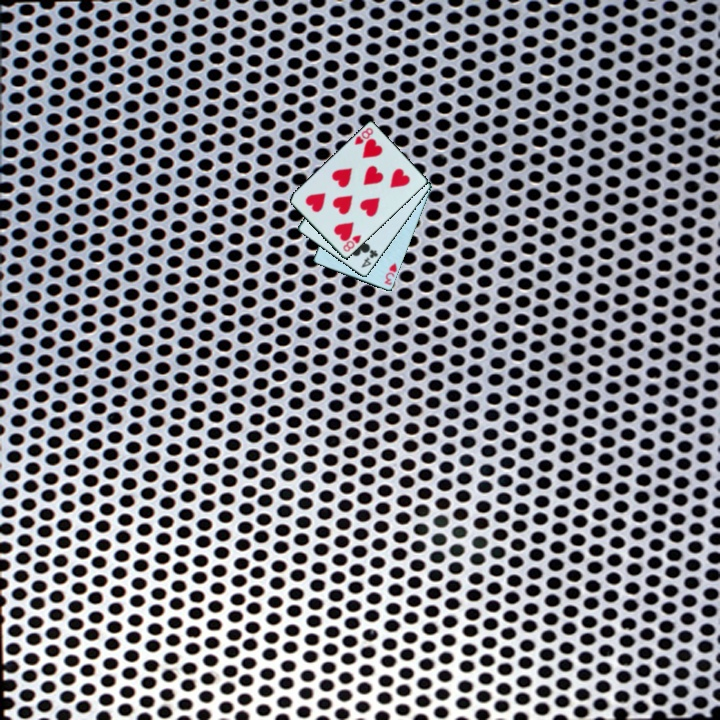3h: (381, 259, 400, 288)
4c: (358, 246, 381, 271)
8h: (351, 124, 376, 148), (340, 231, 364, 255)
